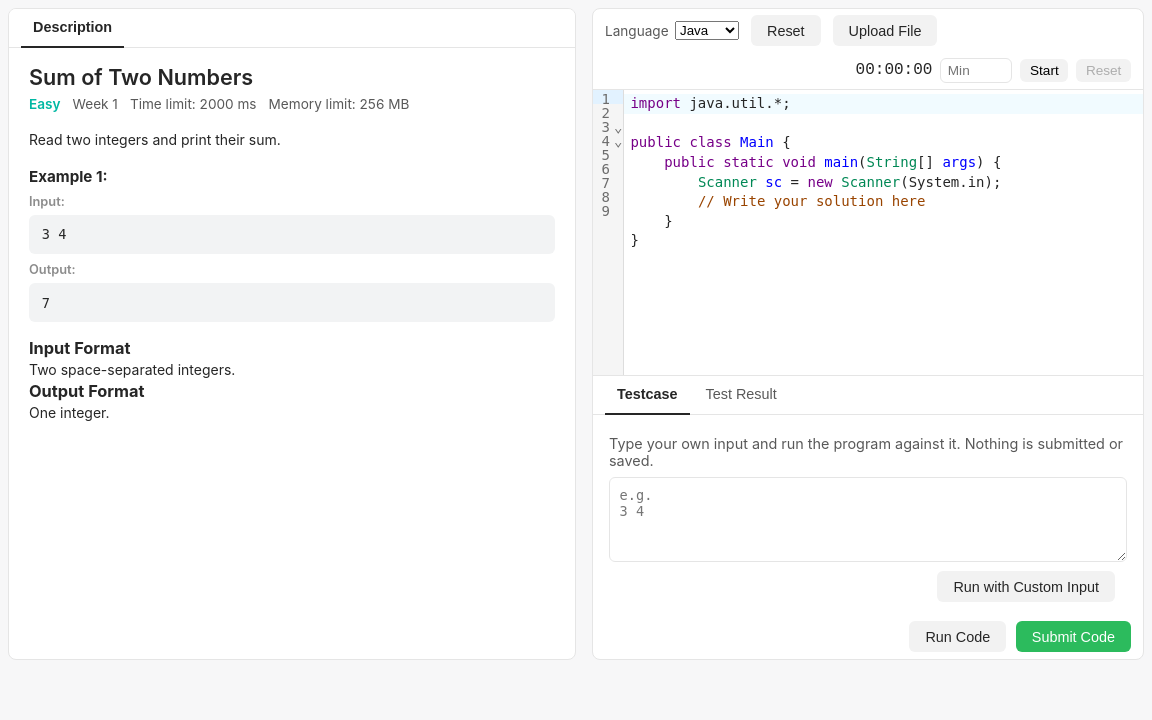
Test: ProblemDetailPage › Submit Code posts, then reads the judged submission back
Expected: the heading "Sum of Two Numbers" is shown, top-left (29, 64), bottom-right (253, 90)
Click the button "Submit Code" at (1073, 637), box top-left (1016, 621), bottom-right (1131, 652)
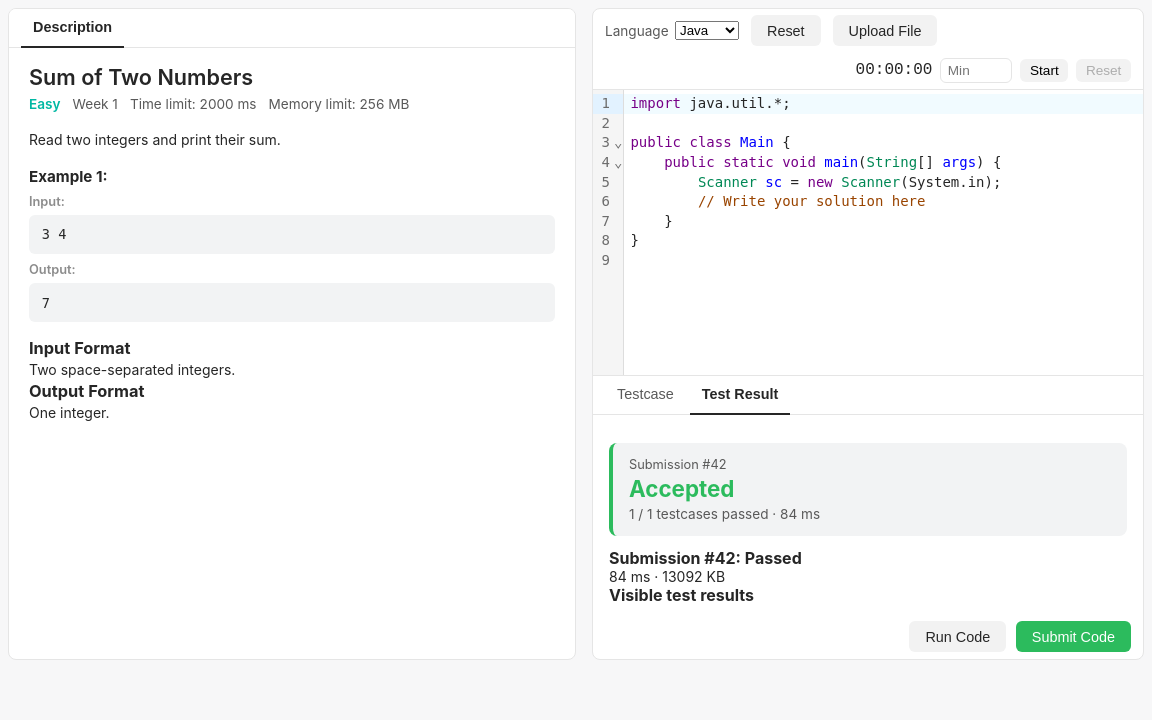
Expected: the text "Submission #42" is shown 2 times, top-left (629, 457), bottom-right (726, 472); top-left (609, 548), bottom-right (802, 568)
Expected: the heading "Visible test results" is shown, top-left (609, 585), bottom-right (754, 605)
Expected: the text "1 / 1 testcases passed · 84 ms" is shown, top-left (629, 506), bottom-right (820, 522)
